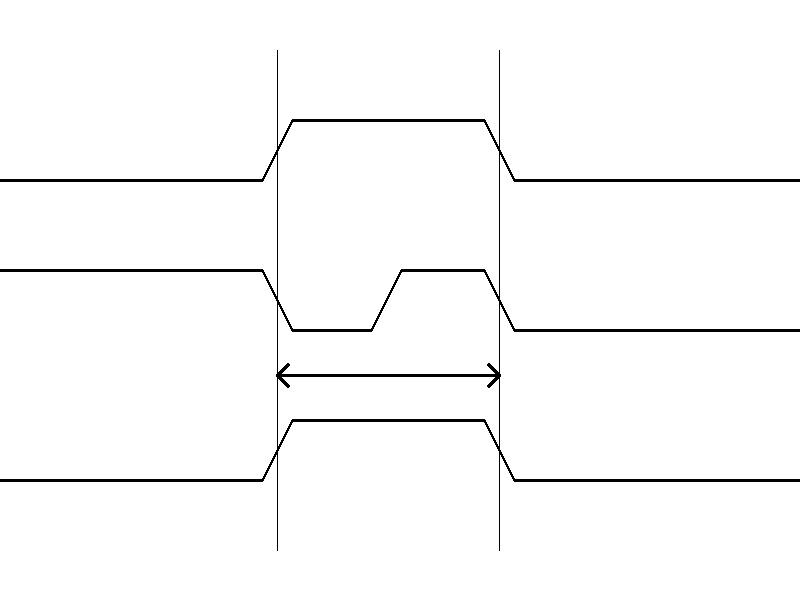double_arrow: (277, 360, 499, 390)
